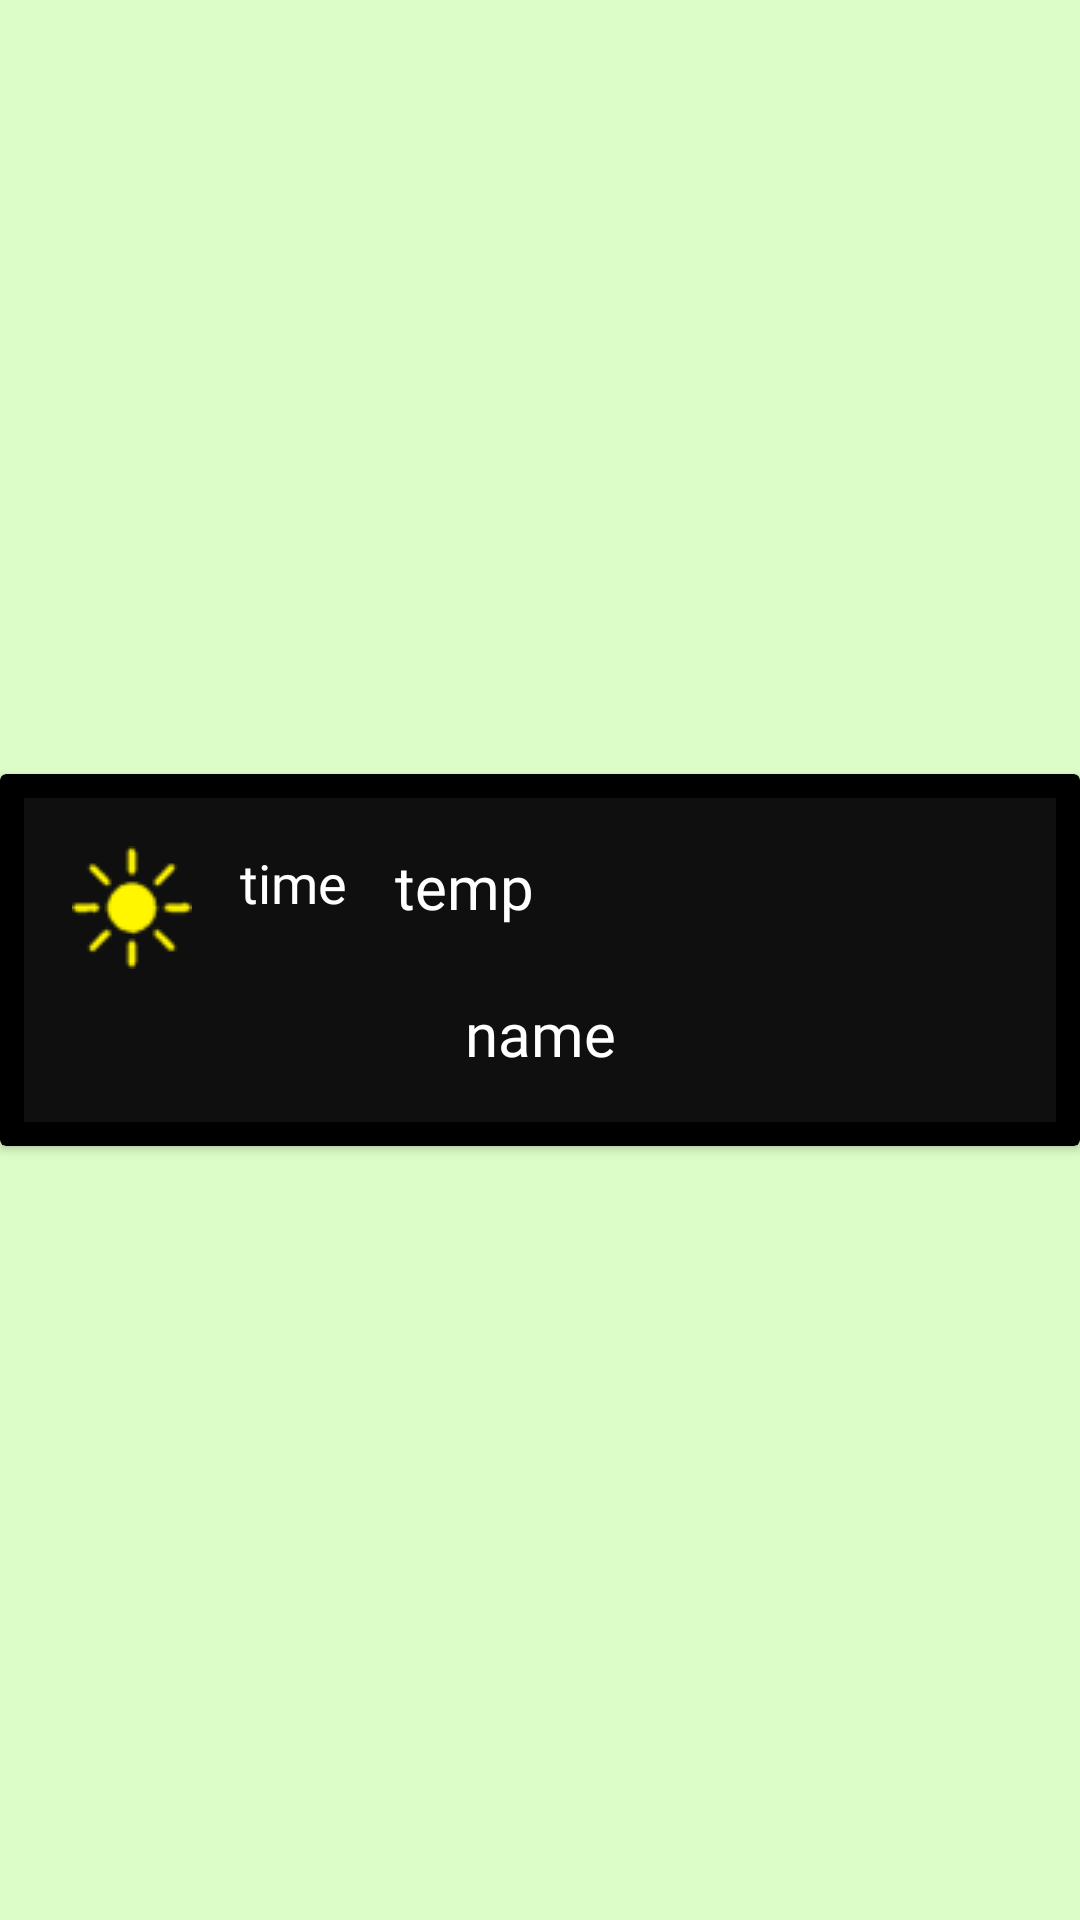

Screen size 1080×1920. Icon name, then its center in pixels as (x=x, y=y):
solnyshko: (x=132, y=907)
